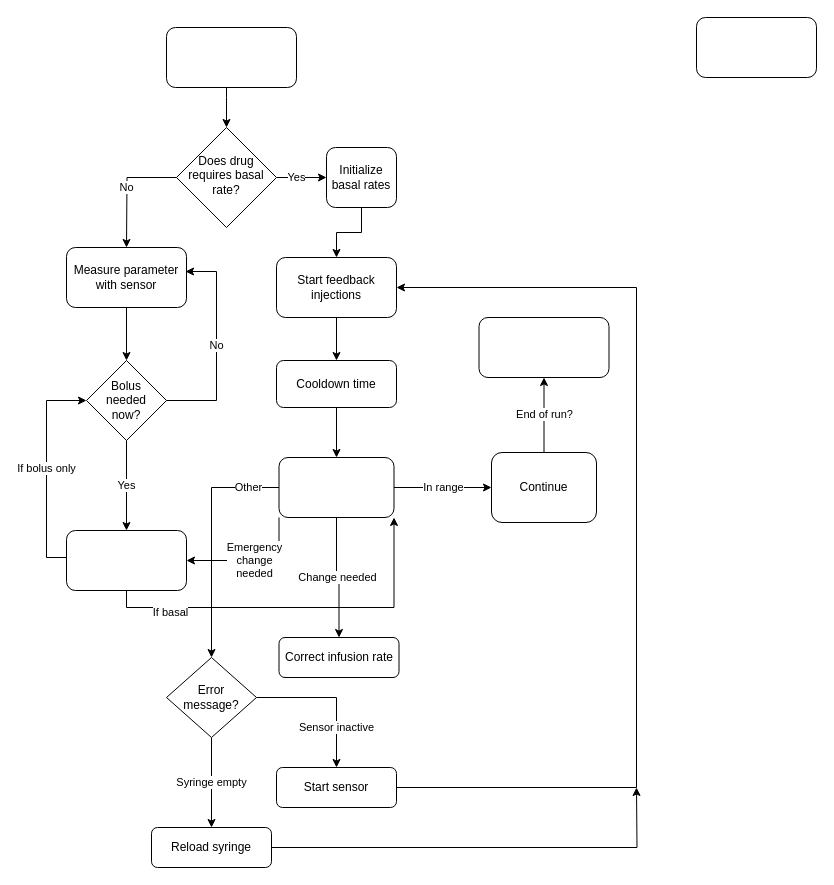
The diagram is 834 pixels wide and 885 high, and some of its shapes have lost their labels. The centre of each missing label's shape, as x and y in pixels:
Check for change with sensor: point (336, 487)
Push bolus: point (126, 560)
Reduction timer??: point (756, 47)
Stop feedback injections: point (543, 347)
SyringeTimer class initialization: point (231, 57)
